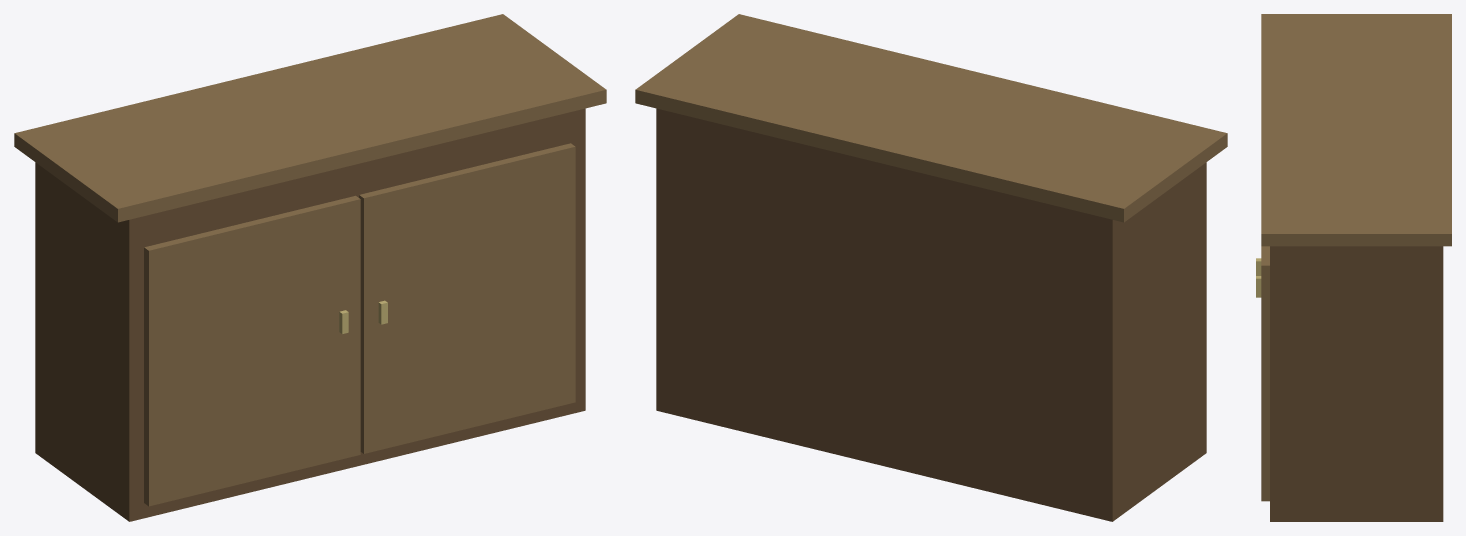
Rendered from cabinet.glb.
The picture shows the model from 3 angles, left to right: view 1: azimuth 30°, elevation 25°; view 2: azimuth 150°, elevation 25°; view 3: azimuth 270°, elevation 25°; orthographic projection. The views are drawn at different scales.
Bounding box in the file's own units: 1.5 × 0.94 × 0.565.
